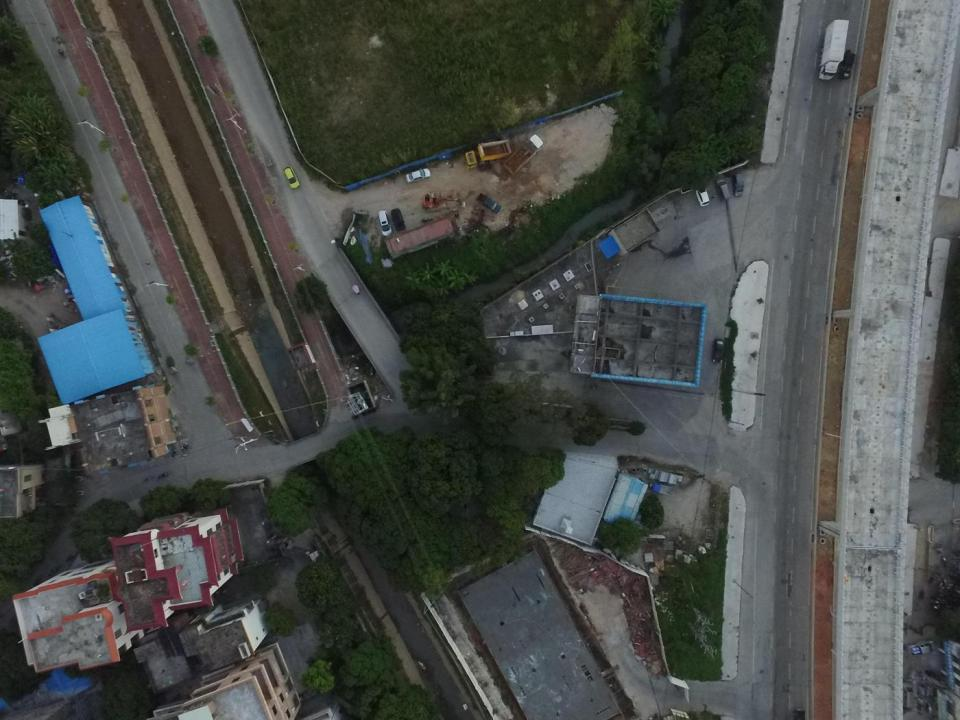car: (839, 49, 856, 80), (377, 209, 394, 237), (283, 167, 301, 190), (405, 168, 431, 182), (391, 209, 406, 232), (696, 185, 710, 207)
truck: (818, 19, 849, 81), (504, 133, 544, 176), (462, 139, 512, 171), (476, 193, 502, 214), (908, 639, 935, 655), (649, 481, 672, 496)
van: (714, 177, 731, 202), (733, 173, 745, 196)
